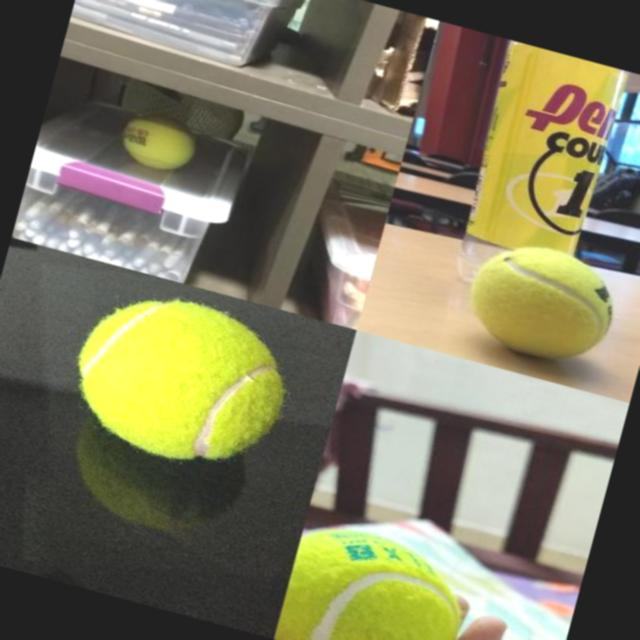tennis-ball: (56, 274, 304, 484), (274, 515, 477, 640), (456, 230, 624, 374), (115, 106, 201, 176)
